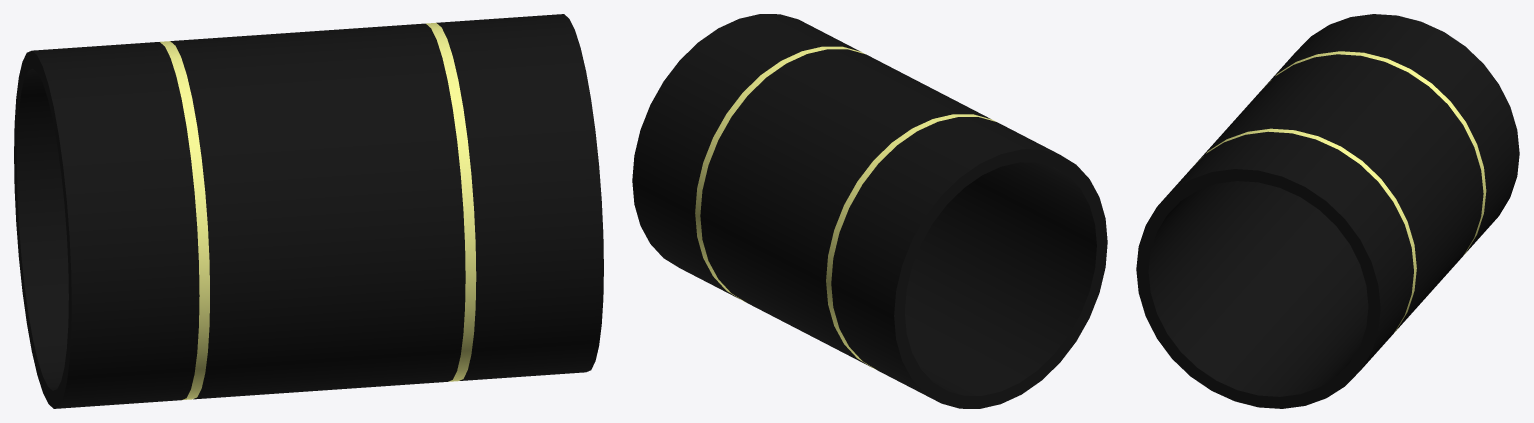
Rendered from MSH_Barril.FBX.
3 renders of one model, left to right at view 1: azimuth 30°, elevation 25°; view 2: azimuth 150°, elevation 25°; view 3: azimuth 270°, elevation 25°, orthographic. The views are drawn at different scales.
Parts seen in each view (by area): view 1: MSH_Barril; view 2: MSH_Barril; view 3: MSH_Barril.
Part boxes in pixels (x1=…): MSH_Barril: x1=14, y1=14, x2=603, y2=408; MSH_Barril: x1=632, y1=14, x2=1107, y2=408; MSH_Barril: x1=1136, y1=14, x2=1519, y2=408.
Bounding box in the file's own units: 176 × 100 × 147.
